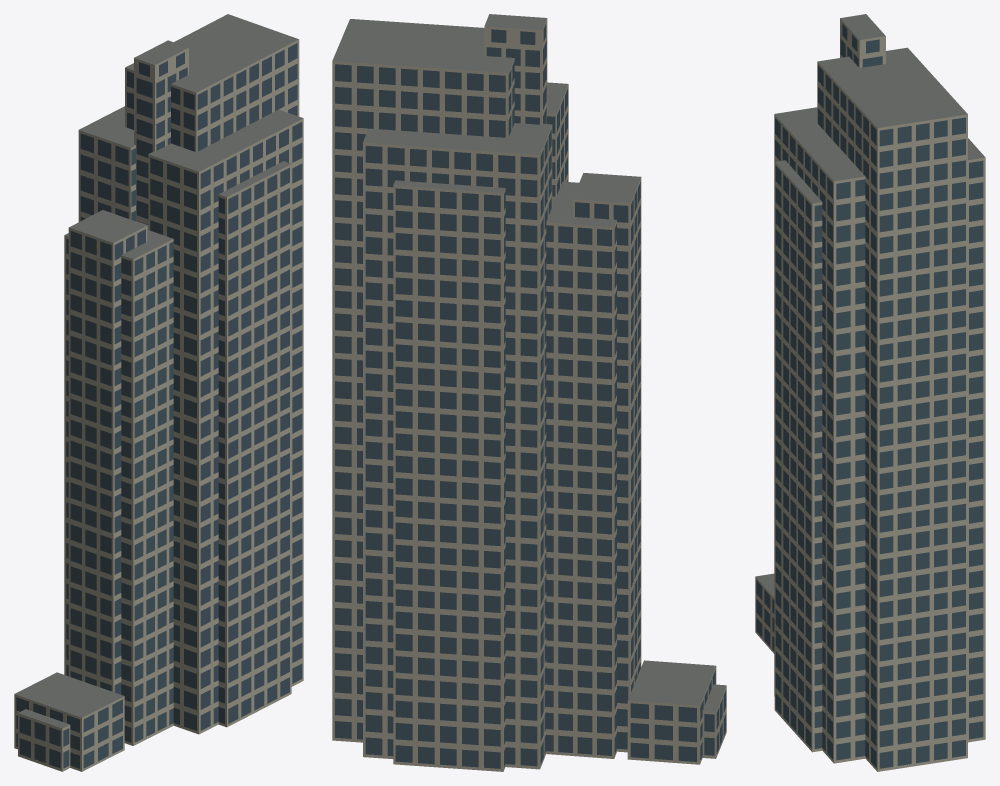
File: mondriaan-tower-near.glb
3 renders of one model, left to right at view 1: azimuth 30°, elevation 25°; view 2: azimuth 150°, elevation 25°; view 3: azimuth 270°, elevation 25°, orthographic. The views are drawn at different scales.
Parts seen in each view (by area): view 1: mondriaan-tower-0-glass, mondriaan-tower-0-stone, mondriaan-tower-0-roof; view 2: mondriaan-tower-0-glass, mondriaan-tower-0-stone, mondriaan-tower-0-roof; view 3: mondriaan-tower-0-glass, mondriaan-tower-0-stone, mondriaan-tower-0-roof.
Part boxes in pixels (x1=…): mondriaan-tower-0-glass: x1=16, y1=43, x2=302, y2=768; mondriaan-tower-0-stone: x1=14, y1=39, x2=303, y2=771; mondriaan-tower-0-roof: x1=14, y1=14, x2=303, y2=728; mondriaan-tower-0-glass: x1=335, y1=24, x2=726, y2=768; mondriaan-tower-0-stone: x1=332, y1=18, x2=726, y2=771; mondriaan-tower-0-roof: x1=332, y1=14, x2=726, y2=711; mondriaan-tower-0-glass: x1=756, y1=24, x2=983, y2=768; mondriaan-tower-0-stone: x1=755, y1=19, x2=985, y2=771; mondriaan-tower-0-roof: x1=755, y1=14, x2=985, y2=597.
Bounding box in the file's own units: 59.63 × 120 × 37.26.
